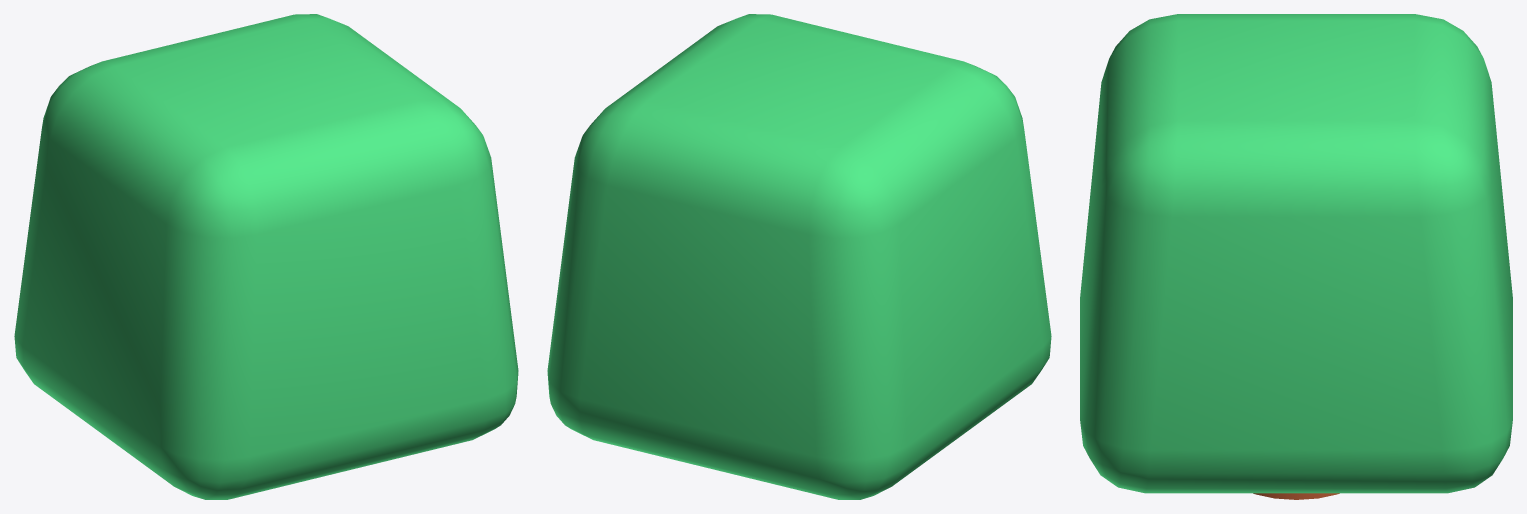
File: Tree3.fbx
3 views of the same model, side by side, from view 1: azimuth 30°, elevation 25°; view 2: azimuth 150°, elevation 25°; view 3: azimuth 270°, elevation 25° (orthographic). The views are drawn at different scales.
Visible parts, largest first — view 1: Tree3; view 2: Tree3; view 3: Tree3.
Boxes of the visible parts, x1=… form: Tree3: x1=14, y1=14, x2=518, y2=499; Tree3: x1=547, y1=14, x2=1051, y2=499; Tree3: x1=1080, y1=14, x2=1512, y2=493.
Size of the model in its own units: 233 by 237 by 233.
